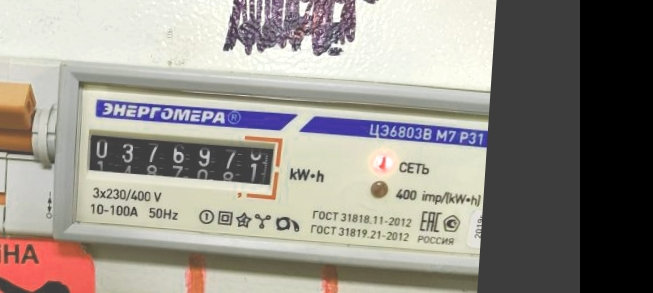0: (92, 137, 109, 159)
1: (247, 161, 259, 183)
3: (118, 140, 134, 164)
6: (171, 142, 185, 164)
7: (221, 146, 236, 170), (145, 139, 159, 164)
9: (195, 145, 210, 167)
screen: (78, 122, 285, 203)
